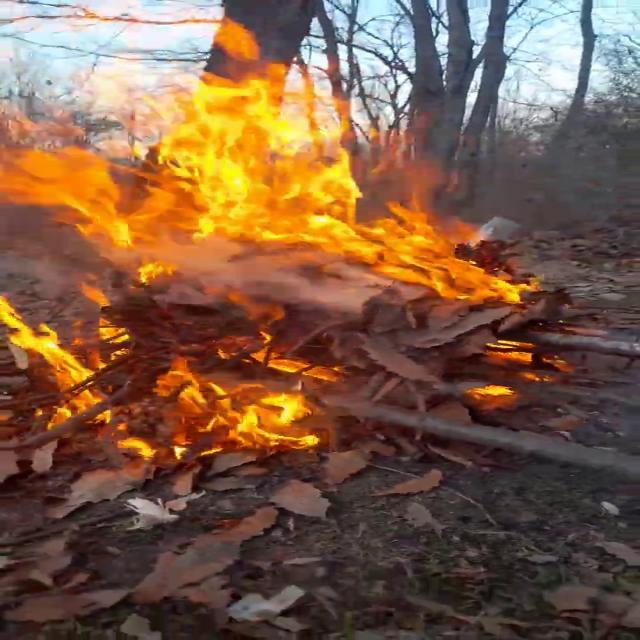Fire: (3, 15, 553, 458)
